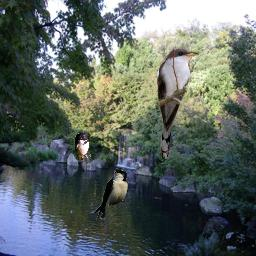Cuckoo: (156, 47, 199, 159)
Swallow: (93, 168, 128, 221), (74, 132, 92, 160)
